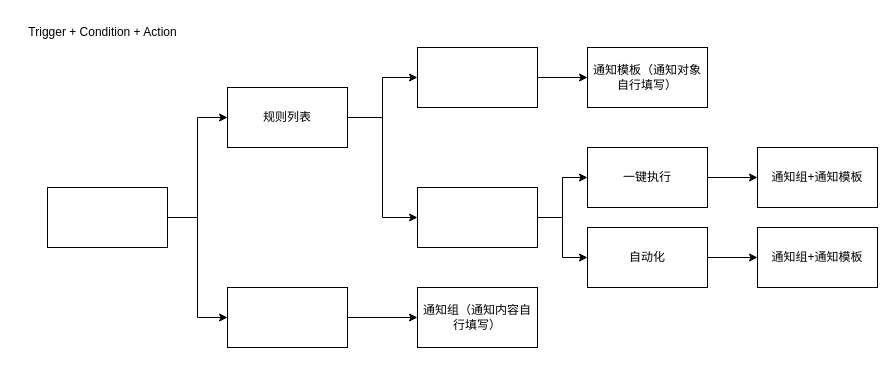
Some shapes in this 895 by 365 pixel diagram are drawn without their labels. Each missing label, with the centre of its shape:
"告警中心" belongs at point 287,317.
"场景规则" belongs at point 477,217.
"流式规则" belongs at point 477,77.
"规则引擎" belongs at point 107,217.
